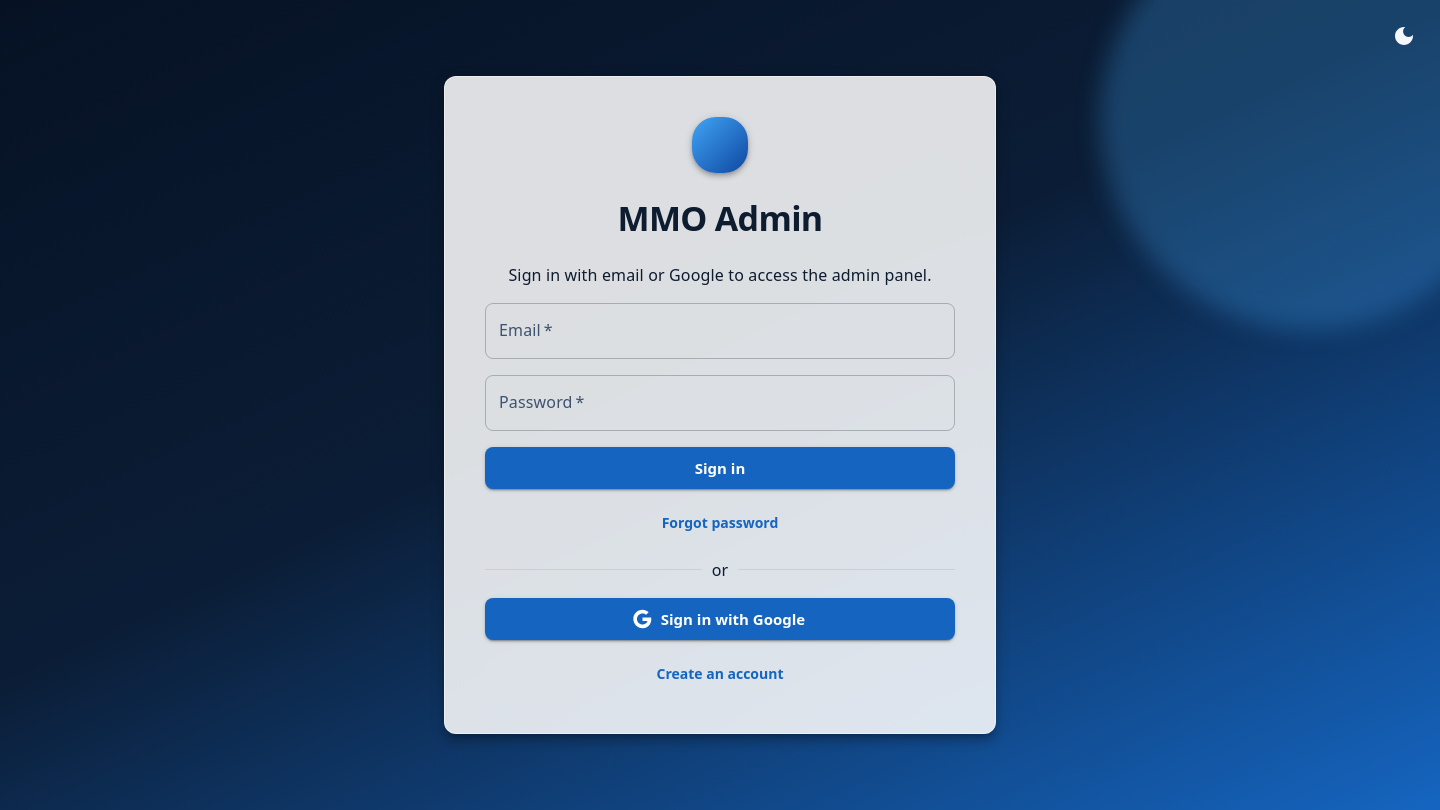
Test: LoginPage register › does not reveal that an email is already registered
This screenshot has width=1440, height=810.
Click the button "Create an account": point(720, 674) [485,656,955,693]
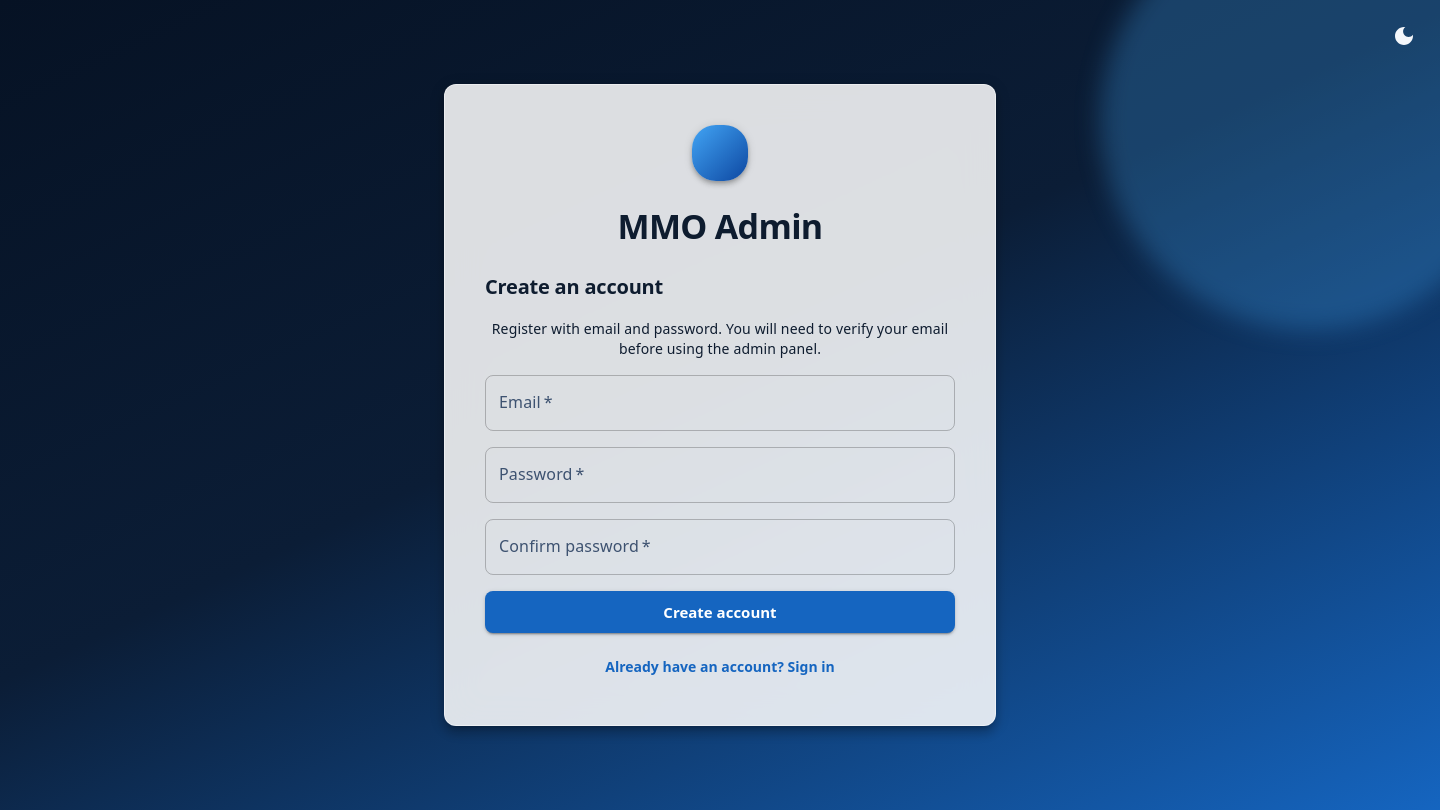
In the field labelled "Email *": point(720, 403) [485,375,955,431], type "taken@example.com"
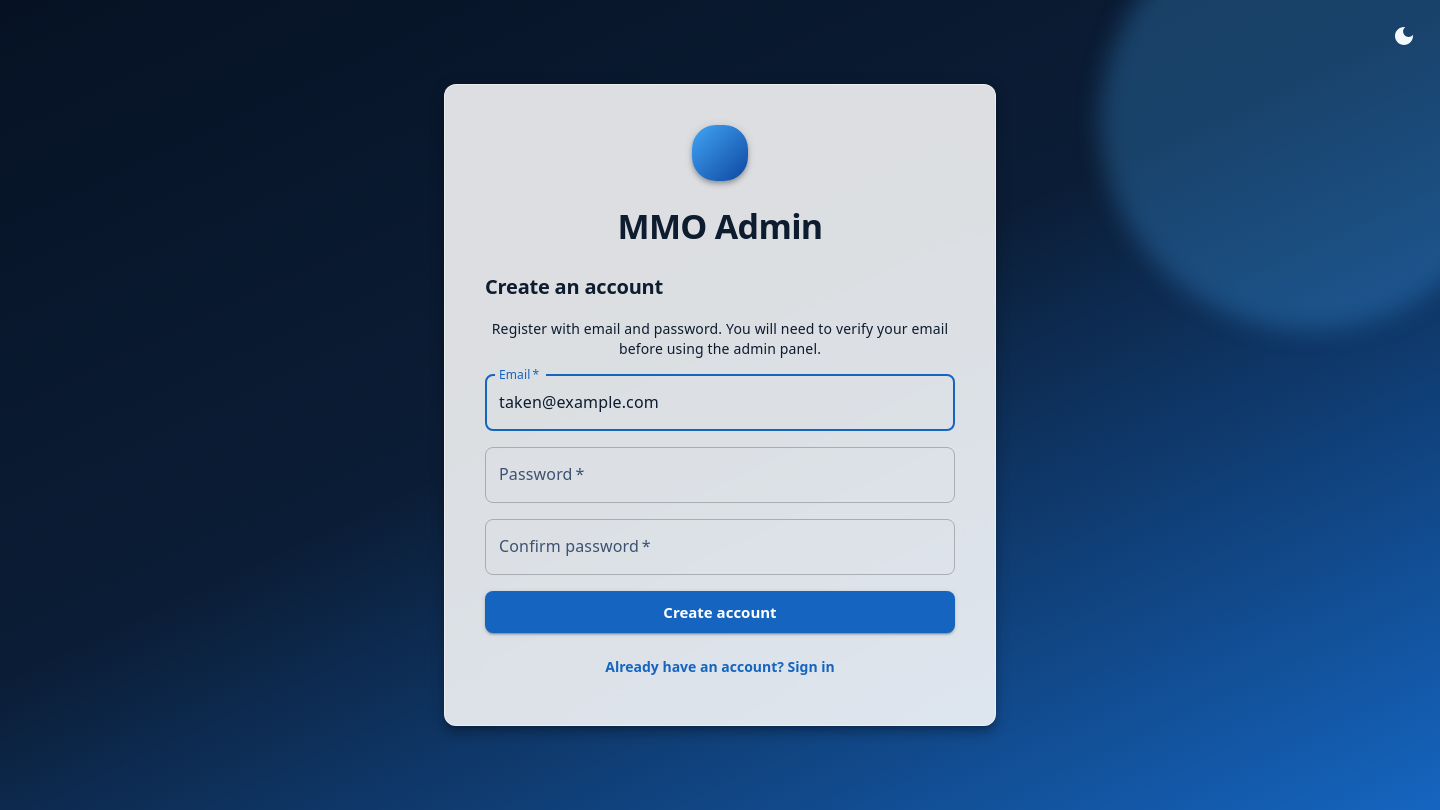
In the password field labelled "Password *": point(720, 475) [485,447,955,503], type "secure-pass"
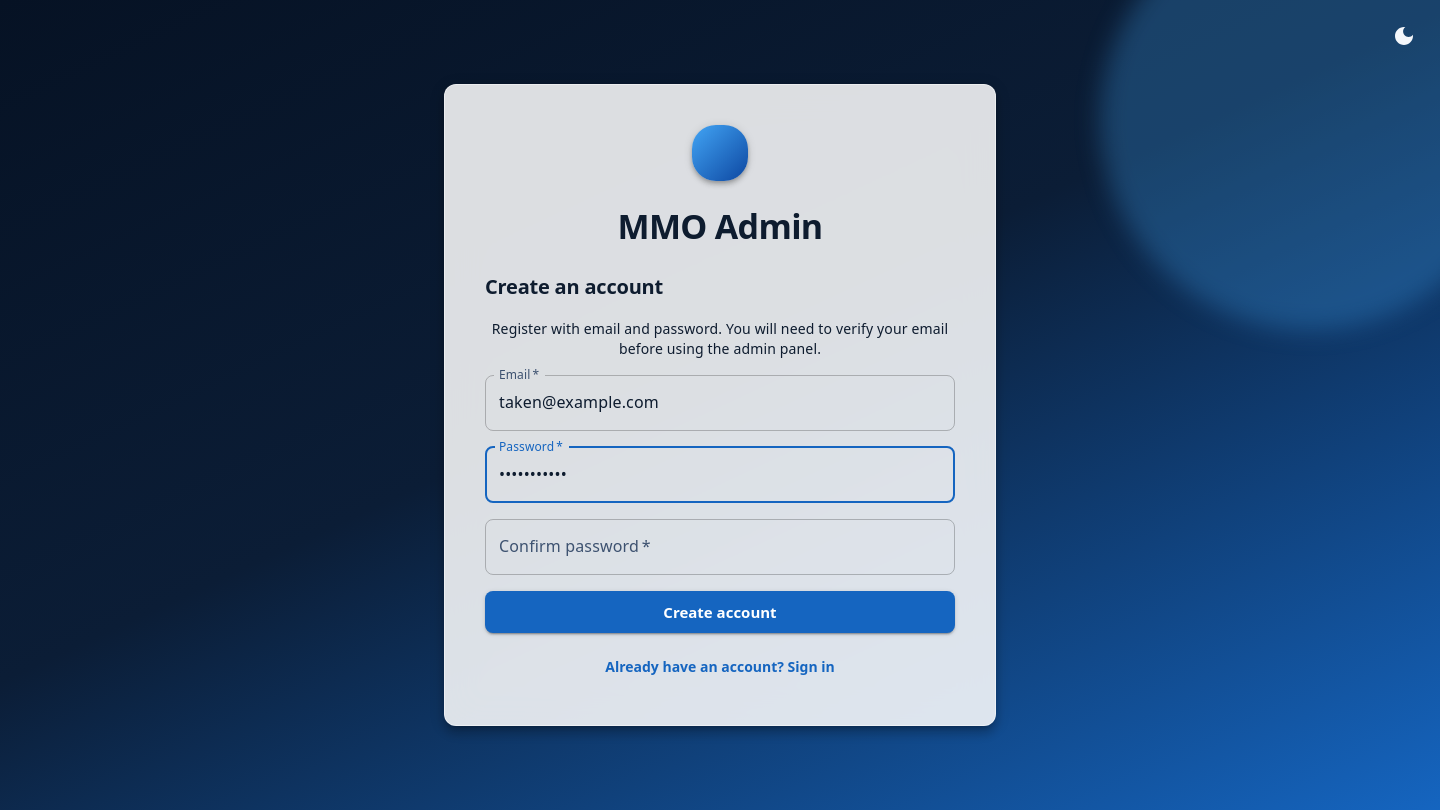
In the password field labelled "Confirm password *": point(720, 547) [485,519,955,575], type "secure-pass"
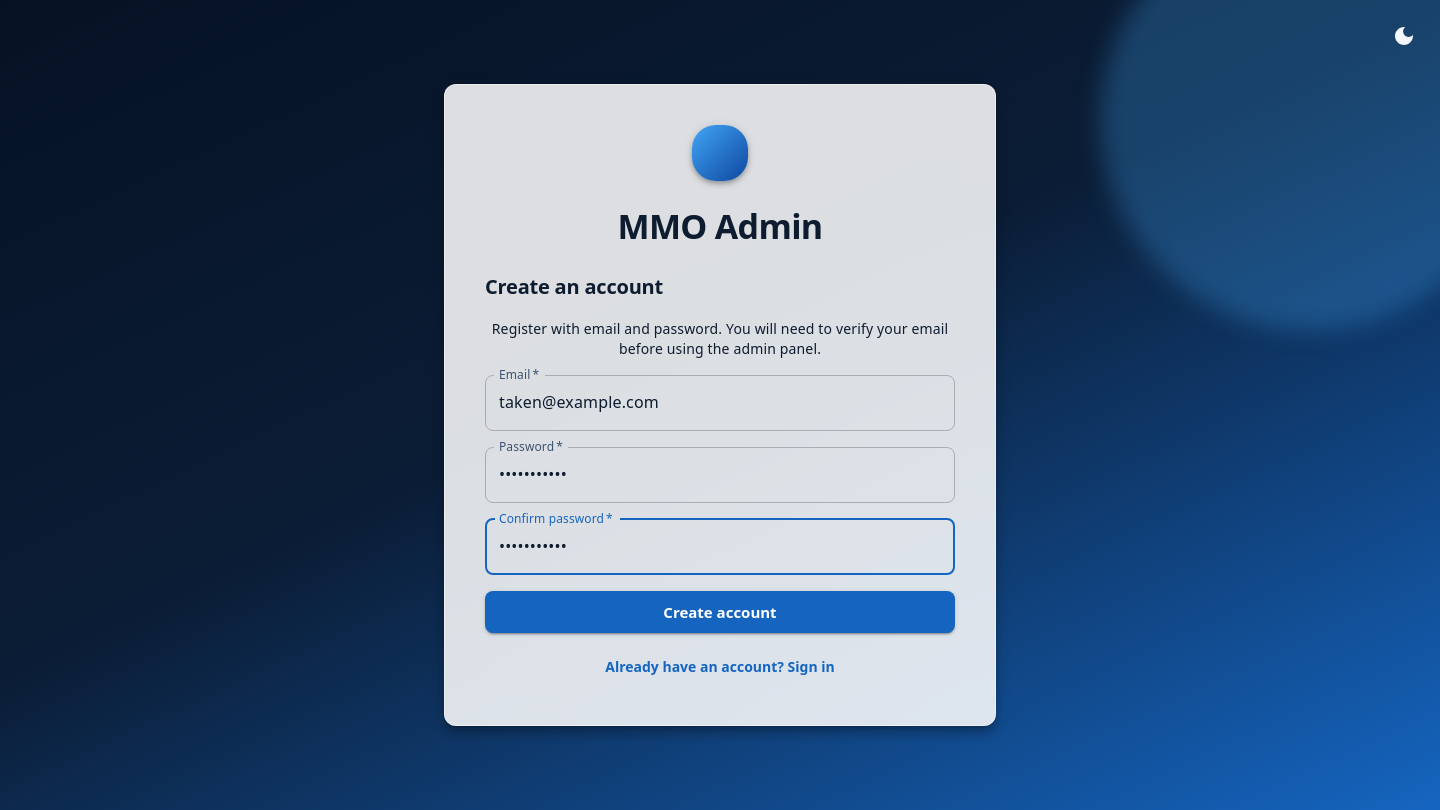
Click the button "Create account": point(720, 612) [485,591,955,633]
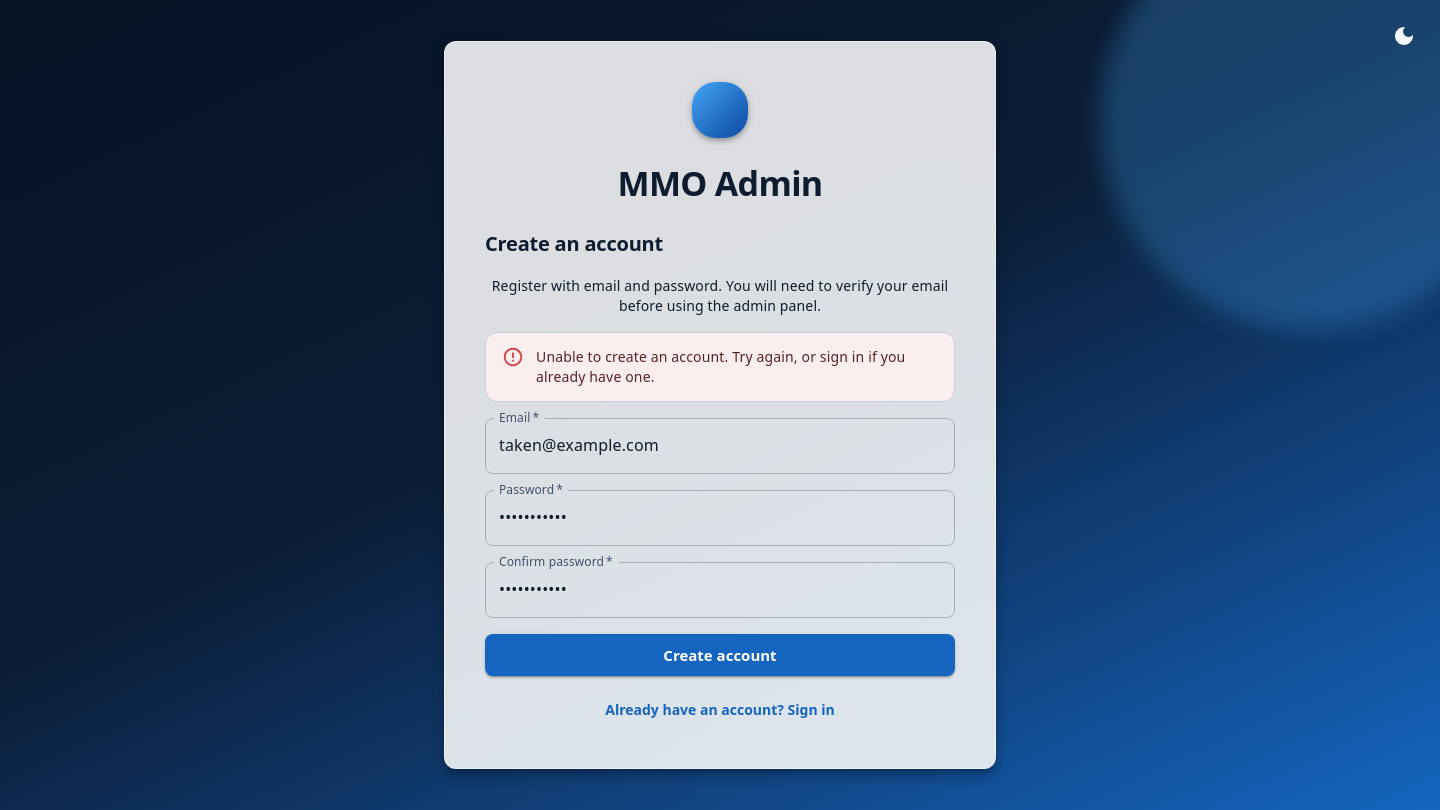
Expected: the message with test id "auth-error" reads "Unable to create an account. Try again, or sign in if you already have one.", [536,347,905,386]
